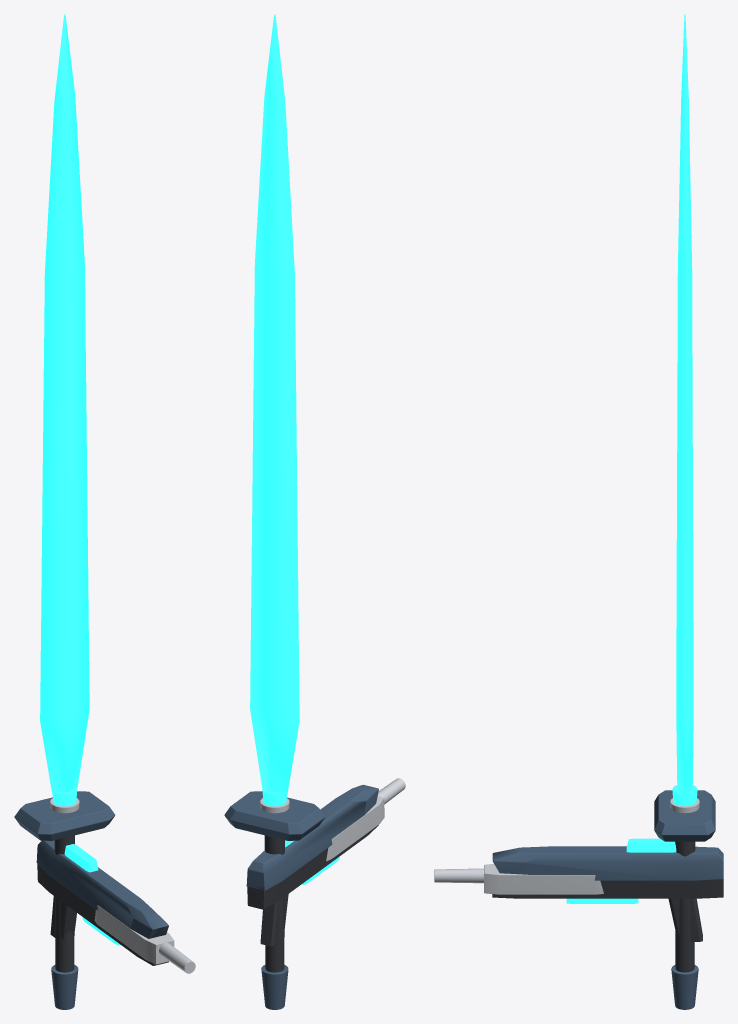
Rendered from weapons_pack.glb.
3 renders of one model, left to right at view 1: azimuth 30°, elevation 25°; view 2: azimuth 150°, elevation 25°; view 3: azimuth 270°, elevation 25°, orthographic.
Parts seen in each view (by area): view 1: Wpn_HyperBeamSaber_Blade, Wpn_BeamPistol, Wpn_HyperBeamSaber_Hilt; view 2: Wpn_HyperBeamSaber_Blade, Wpn_BeamPistol, Wpn_HyperBeamSaber_Hilt; view 3: Wpn_BeamPistol, Wpn_HyperBeamSaber_Blade, Wpn_HyperBeamSaber_Hilt.
Part boxes in pixels (left/top/right/bottom): Wpn_HyperBeamSaber_Blade: left=40, top=14, right=89, bottom=795; Wpn_BeamPistol: left=36, top=840, right=195, bottom=973; Wpn_HyperBeamSaber_Hilt: left=14, top=787, right=115, bottom=1009; Wpn_HyperBeamSaber_Blade: left=250, top=14, right=299, bottom=795; Wpn_BeamPistol: left=246, top=778, right=405, bottom=946; Wpn_HyperBeamSaber_Hilt: left=224, top=787, right=325, bottom=1009; Wpn_BeamPistol: left=434, top=838, right=723, bottom=941; Wpn_HyperBeamSaber_Blade: left=676, top=14, right=693, bottom=798; Wpn_HyperBeamSaber_Hilt: left=654, top=785, right=715, bottom=1009.
Size of the model in its own units: 0.1634 by 1.99 by 0.525.
